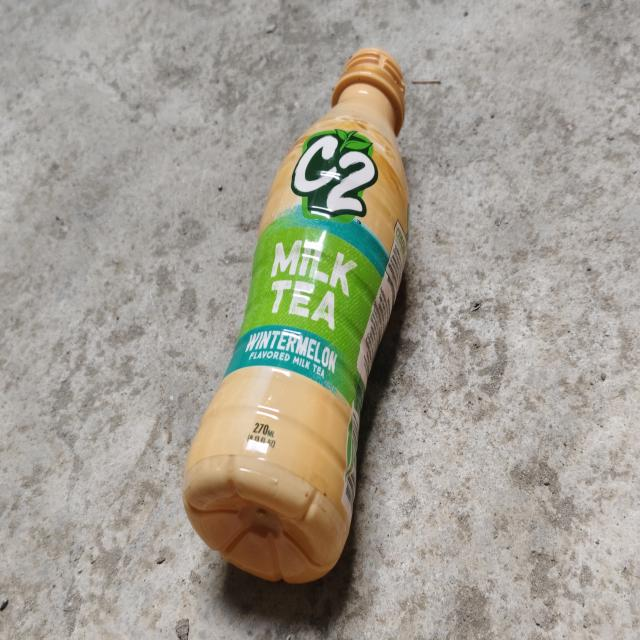Bottle: (183, 48, 409, 583)
